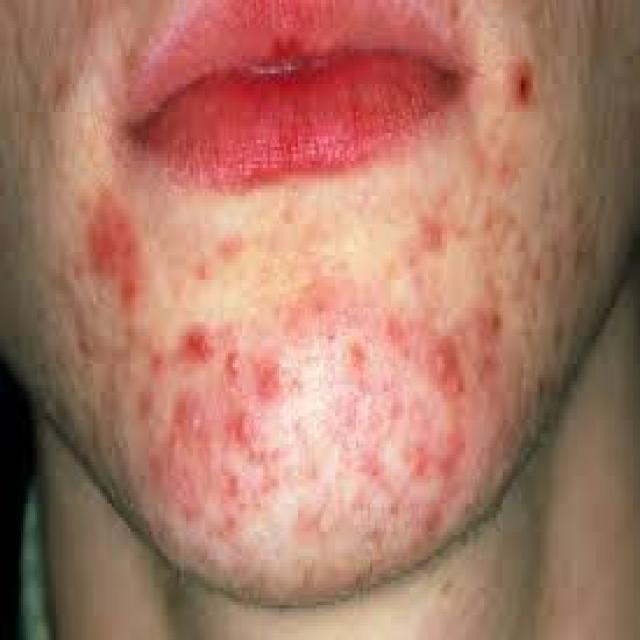Acne: (84, 182, 146, 307), (144, 445, 203, 524), (424, 324, 470, 407), (403, 435, 471, 481), (503, 52, 541, 119), (219, 466, 251, 540), (175, 312, 218, 366), (172, 385, 208, 445), (219, 402, 260, 447), (218, 340, 249, 396), (252, 356, 285, 406), (339, 334, 368, 381)
